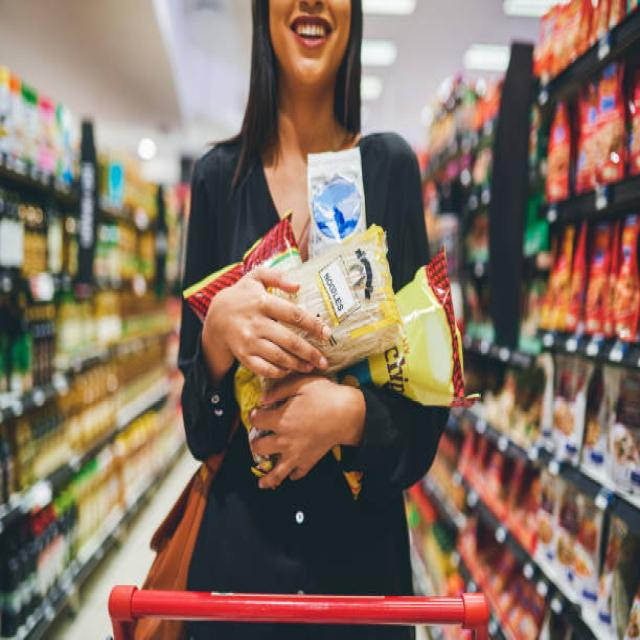article: (273, 224, 404, 372), (360, 249, 476, 405), (183, 213, 300, 322), (310, 147, 365, 254)
hands: (202, 270, 329, 383), (251, 375, 365, 488)
person: (179, 271, 447, 591), (183, 0, 429, 287)
